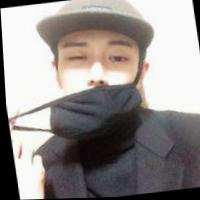WRONG: (49, 31, 148, 128)
